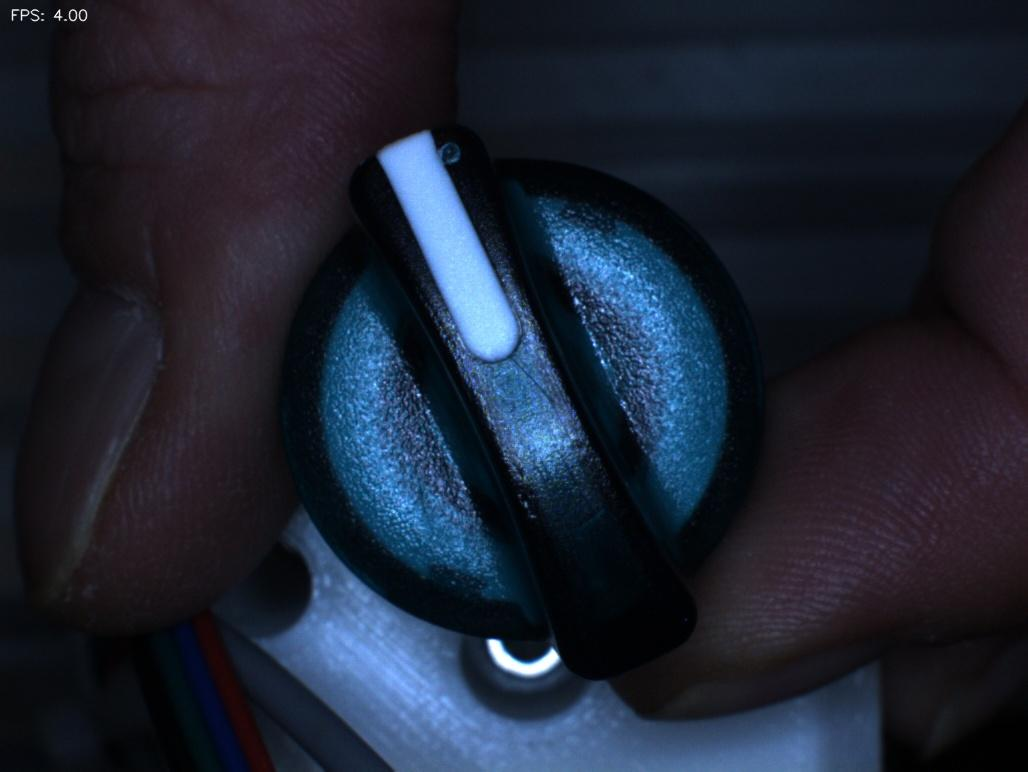Choc: (406, 115, 488, 190)
